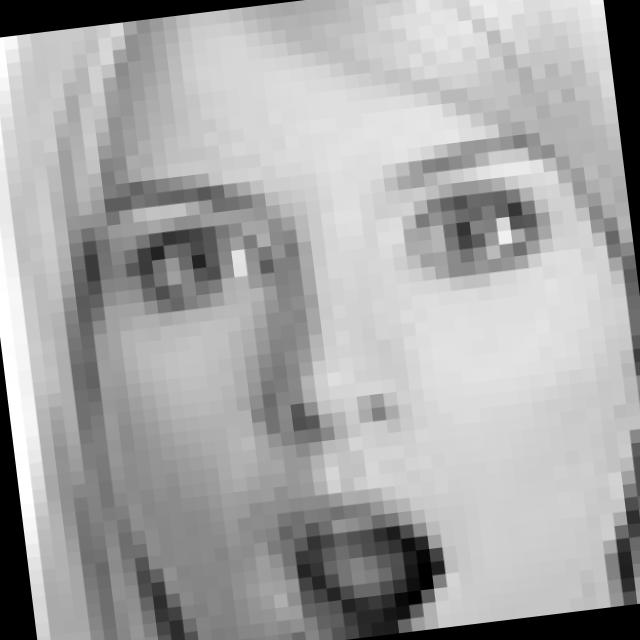surprise: (91, 121, 612, 640)
